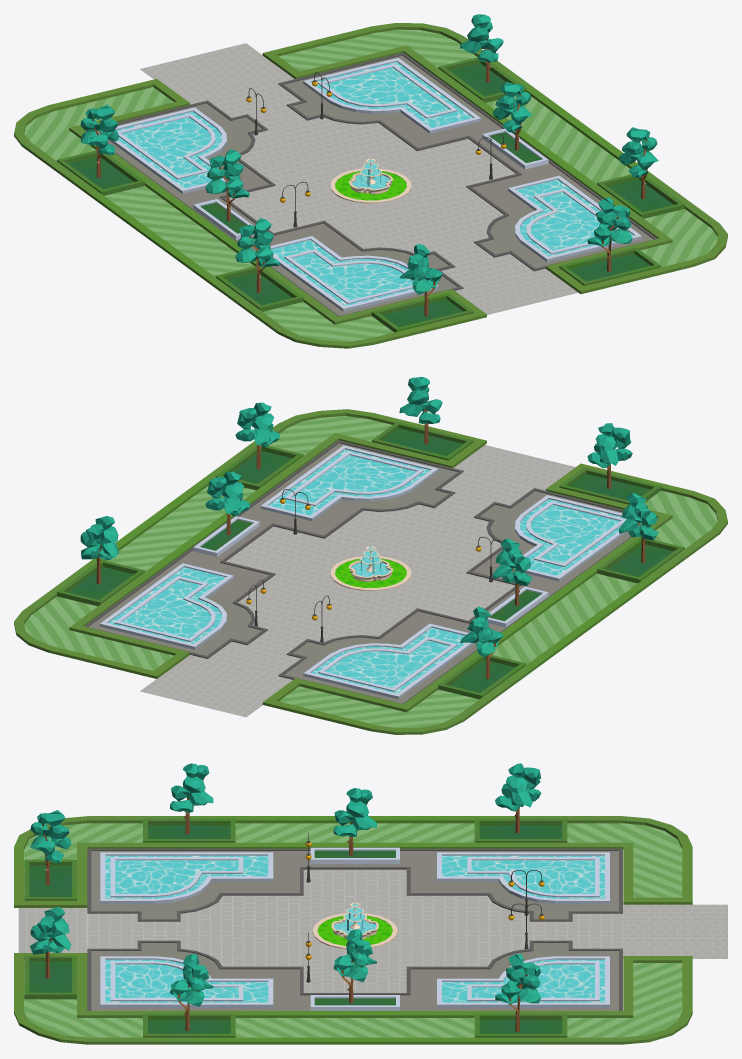
The model's file is landmap2.fbx.
3 renders of one model, top to bottom at view 1: azimuth 30°, elevation 25°; view 2: azimuth 150°, elevation 25°; view 3: azimuth 270°, elevation 25°, orthographic. The views are drawn at different scales.
Parts seen in each view (by area): view 1: sjfbs.001, daiphunnuoc; view 2: sjfbs.001, daiphunnuoc; view 3: sjfbs.001, daiphunnuoc.
Part boxes in pixels (x1,y1,x2,y2): sjfbs.001: [14, 14, 727, 348]; daiphunnuoc: [330, 158, 411, 203]; sjfbs.001: [14, 377, 727, 734]; daiphunnuoc: [330, 546, 411, 591]; sjfbs.001: [14, 763, 727, 1044]; daiphunnuoc: [312, 902, 397, 949].
Size of the model in its own units: 5583 by 840 by 7466.
